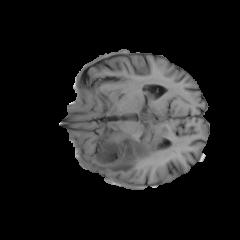glioma: (90, 132, 152, 175)
